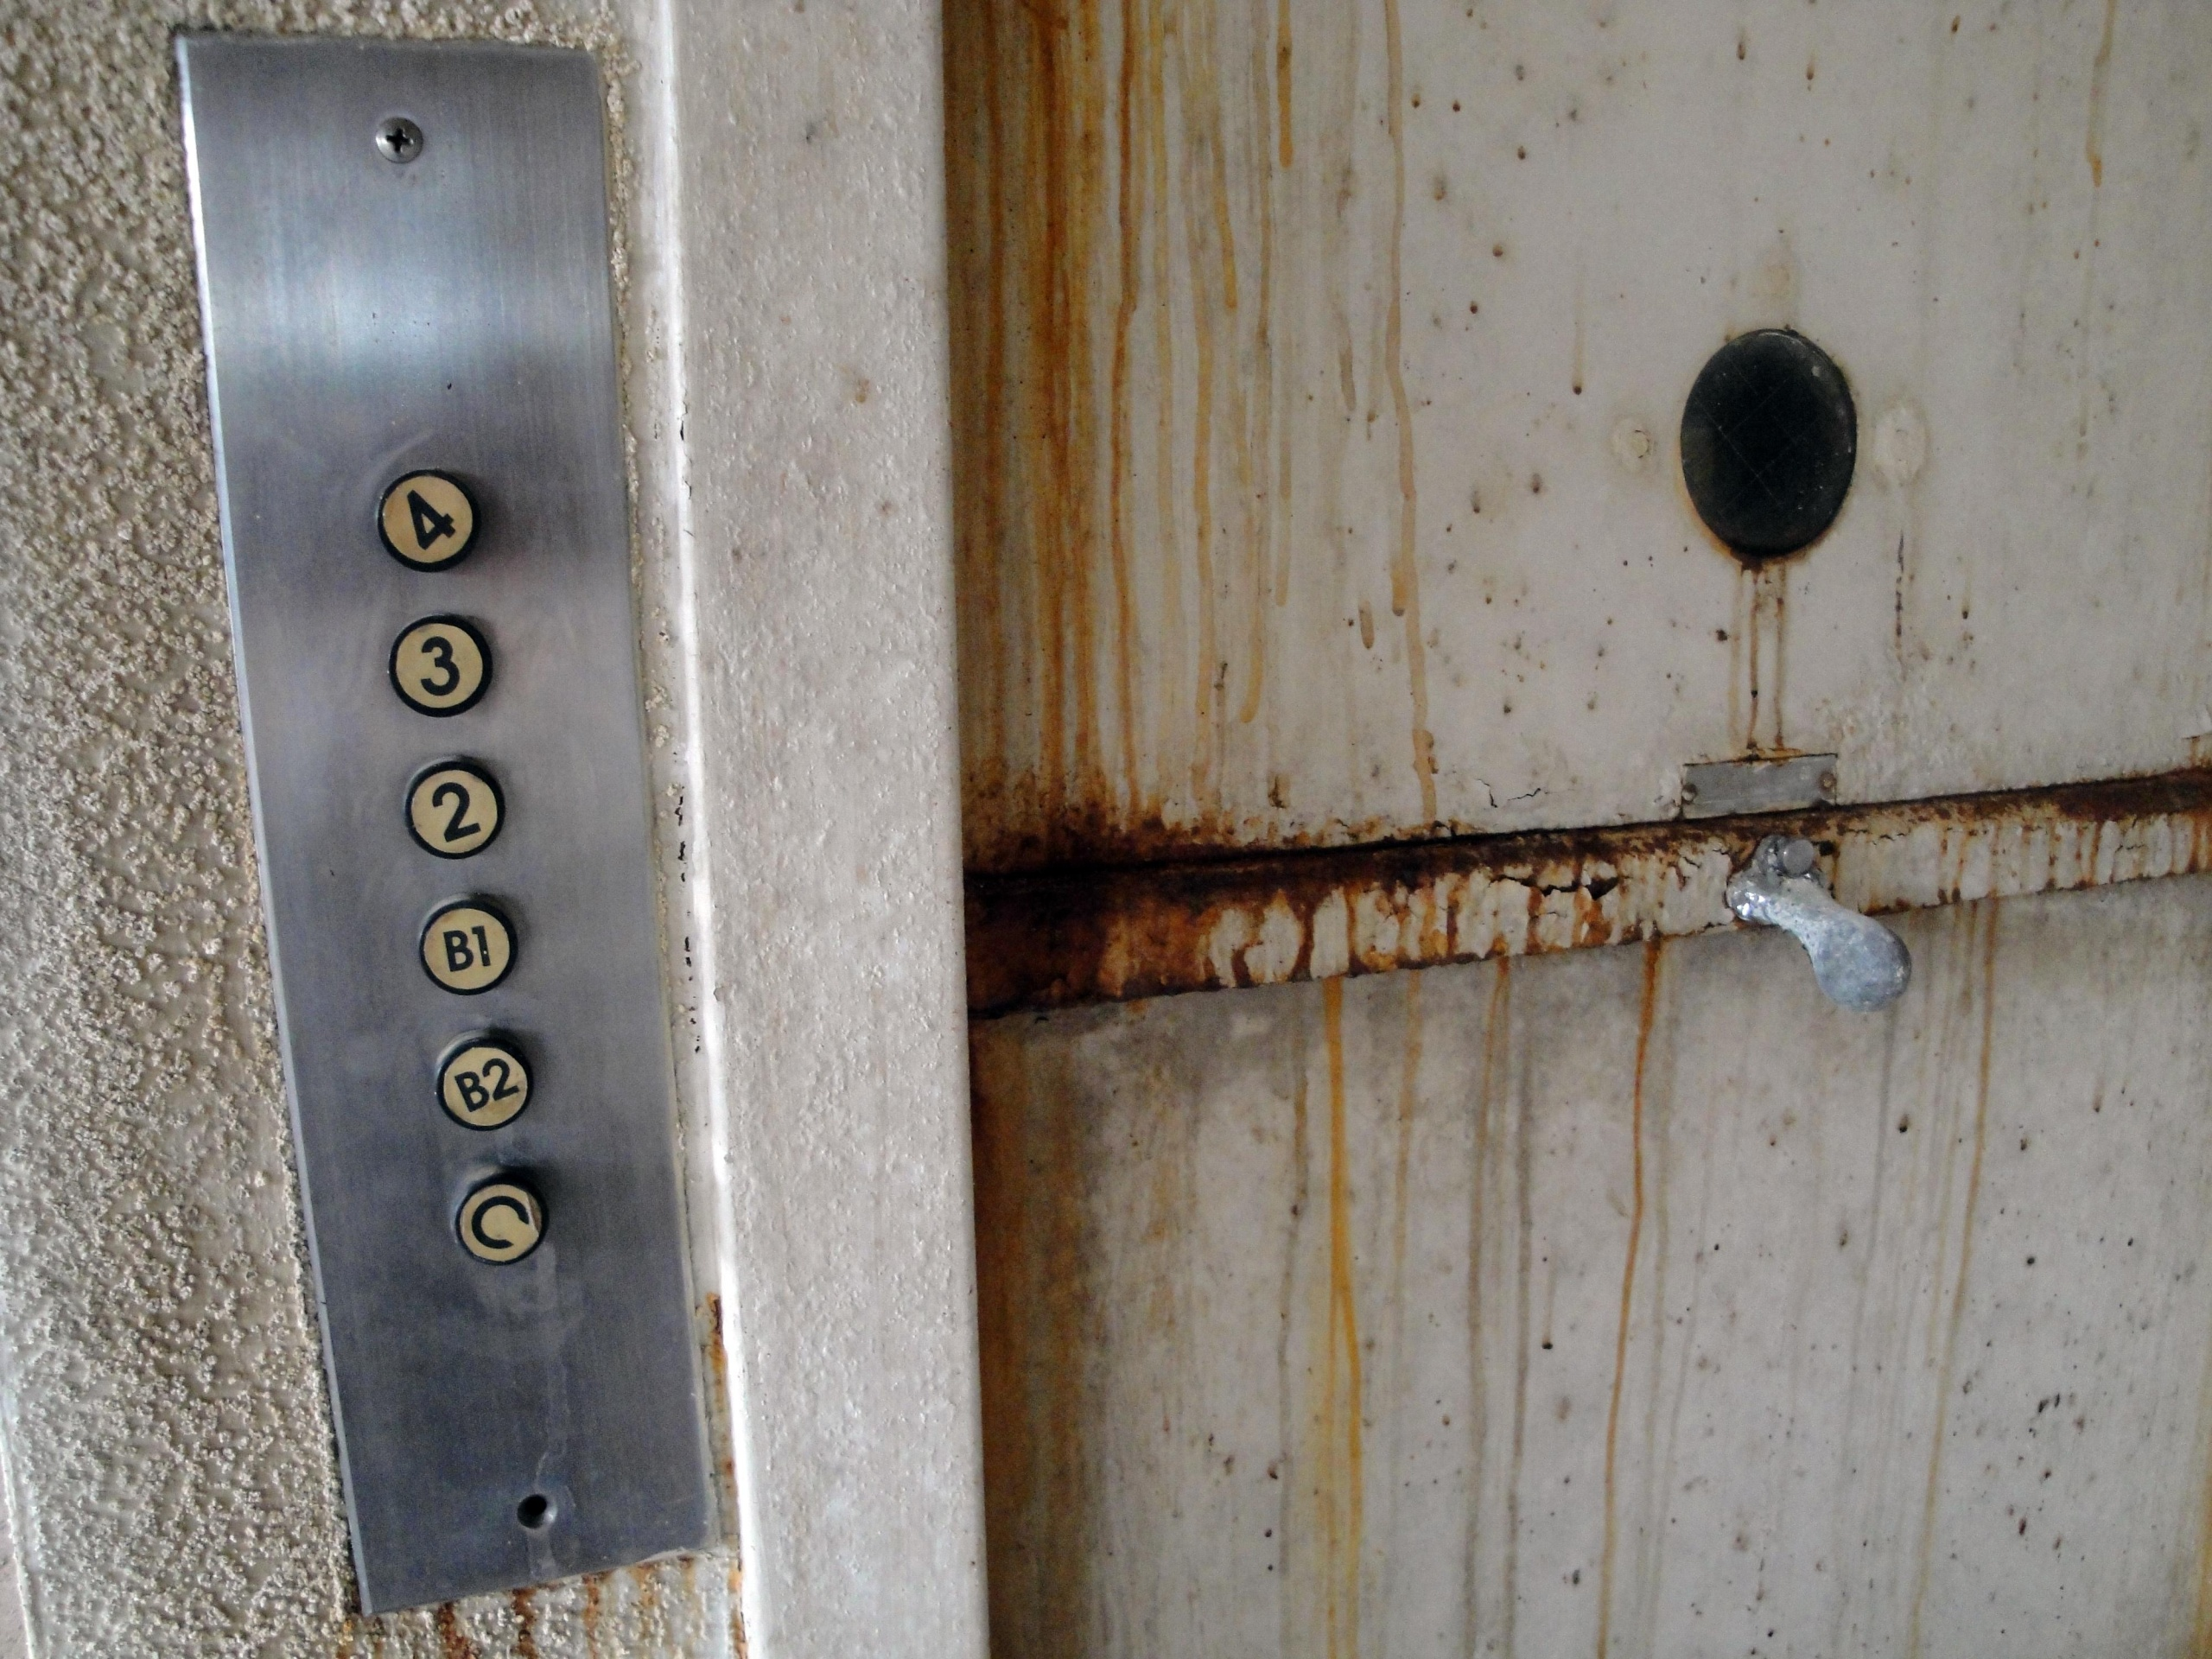2: (394, 753, 509, 863)
3: (385, 615, 488, 714)
4: (369, 462, 488, 573)
B1: (416, 896, 521, 999)
B2: (434, 1028, 536, 1134)
C: (446, 1168, 549, 1265)
